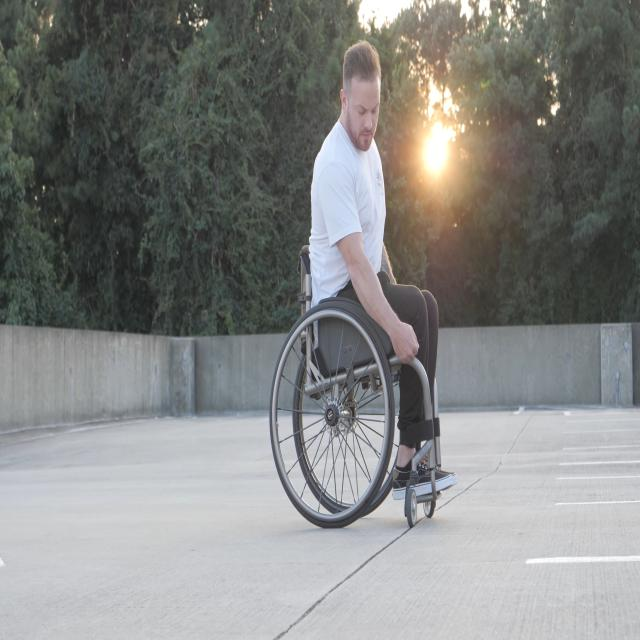wheelchairs: (269, 238, 443, 530)
